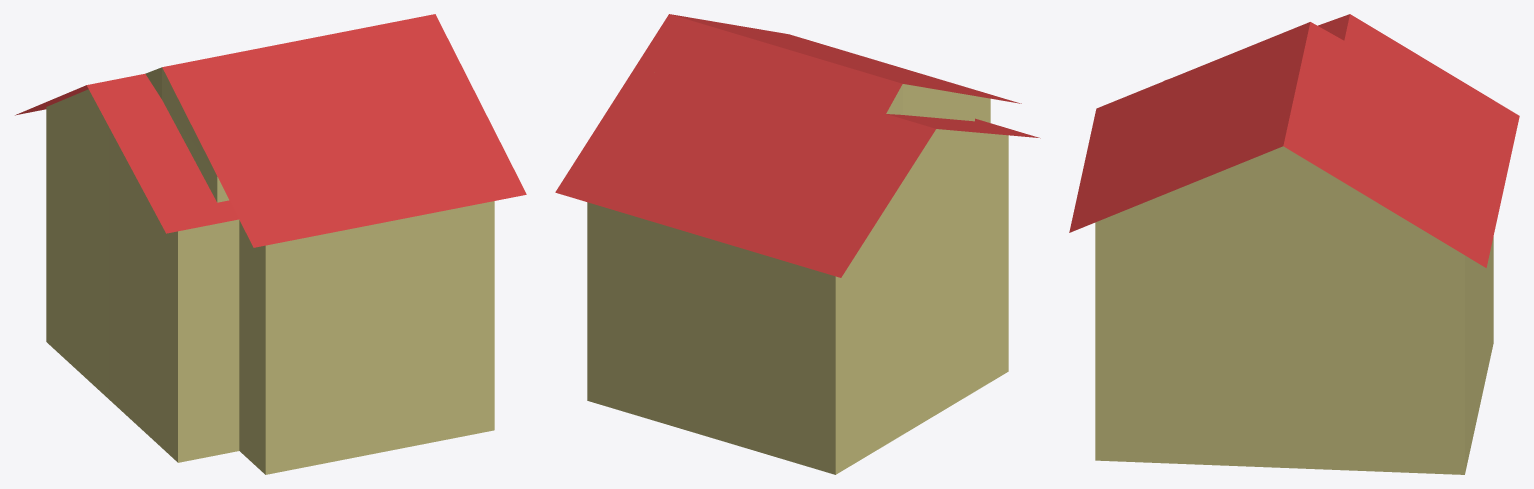
3 views of the same model, side by side, from view 1: azimuth 30°, elevation 25°; view 2: azimuth 150°, elevation 25°; view 3: azimuth 270°, elevation 25° (orthographic). The views are drawn at different scales.
Parts seen in each view (by area): view 1: group_5, group_3, group_9, group_7, group_4, group_8; view 2: group_5, group_3, group_9, group_4, group_7; view 3: group_5, group_3, group_4.
Part boxes in pixels (bbox=[...]): group_5: bbox=[46, 67, 494, 474]; group_3: bbox=[15, 14, 526, 247]; group_9: bbox=[108, 127, 217, 462]; group_7: bbox=[86, 74, 216, 233]; group_4: bbox=[29, 14, 526, 246]; group_8: bbox=[88, 81, 238, 233]; group_5: bbox=[587, 84, 990, 474]; group_3: bbox=[555, 14, 1021, 277]; group_9: bbox=[917, 129, 1008, 425]; group_4: bbox=[601, 14, 1019, 277]; group_7: bbox=[887, 114, 1040, 138]; group_5: bbox=[1095, 146, 1493, 474]; group_3: bbox=[1069, 22, 1519, 267]; group_4: bbox=[1070, 14, 1519, 262].
Size of the model in its own units: 12.32 by 14.11 by 11.47.
